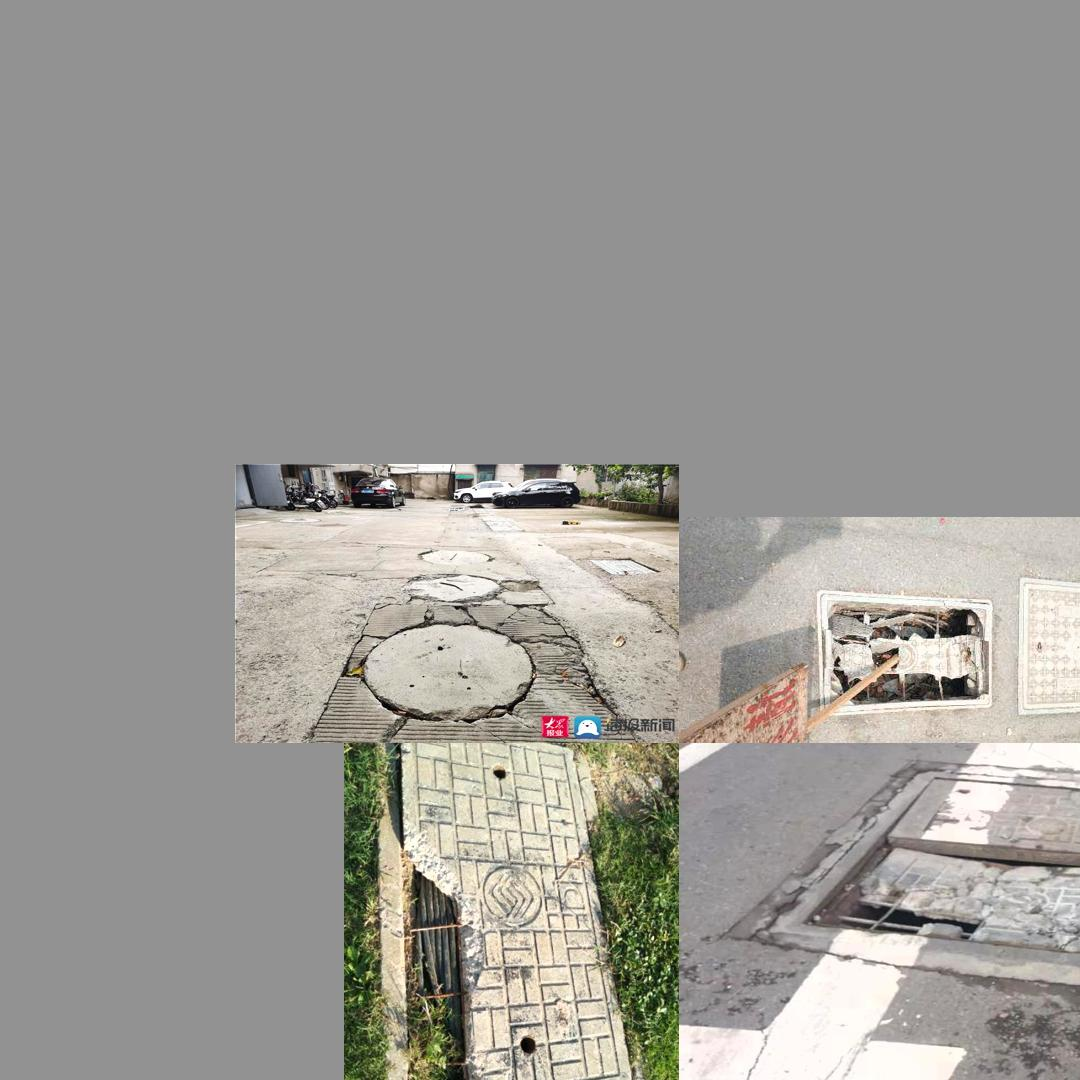broke: (376, 745, 649, 1080), (752, 770, 1080, 996), (333, 589, 595, 733), (818, 593, 994, 715)
good: (1017, 577, 1080, 715)
